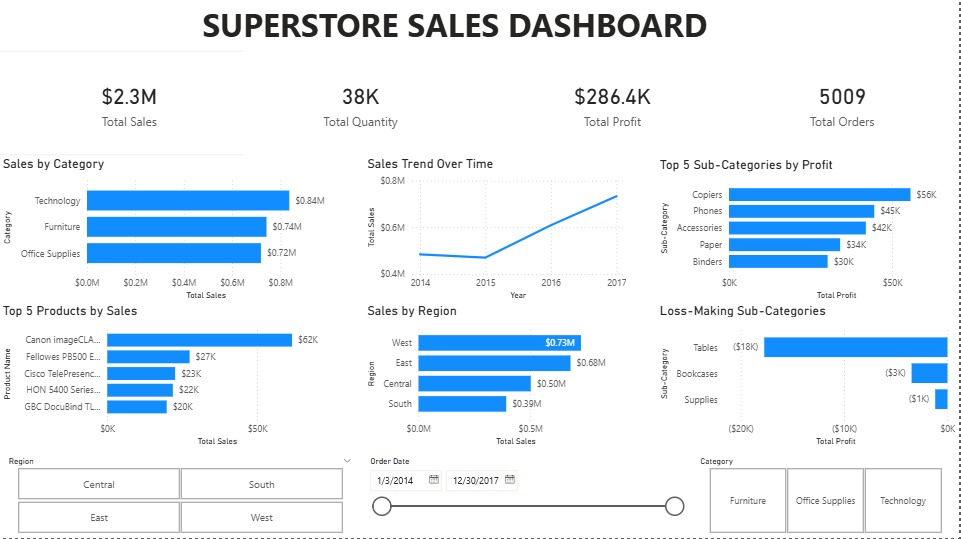

This screenshot's page, from the dashboard's own definition file:
{"tool":"powerbi","page":{"name":"Page 1","canvas":[1280,720],"ordinal":0},"visuals":[{"type":"card","fields":{"Values":["Superstore.Total sales"]},"box":[0,70,346.7,140],"z":0},{"type":"card","fields":{"Values":["Superstore.Total quantity"]},"box":[326.7,70,311.7,140],"z":1000},{"type":"card","fields":{"Values":["Superstore.Total profit"]},"box":[665,70,303.3,140],"z":2000},{"type":"card","fields":{"Values":["Superstore.Total orders"]},"box":[968.3,70,311.7,140],"z":3000},{"type":"clusteredBarChart","title":"Sales by Category","fields":{"Category":["Superstore.Category"],"Y":["Superstore.Total sales"]},"box":[0,210,456.7,196.7],"z":4000},{"type":"clusteredBarChart","title":"Top 5 Sub-Categories by Profit","fields":{"Category":["Superstore.Sub-Category"],"Y":["Superstore.Total profit"]},"box":[876.7,211.7,403.3,195],"z":5000},{"type":"lineChart","title":"Sales Trend Over Time","fields":{"Y":["Superstore.Total sales"],"Category":["Superstore.Order Date.Variation.Date Hierarchy.Year"]},"box":[486.7,210,355,196.7],"z":6000},{"type":"clusteredBarChart","title":"Sales by Region","fields":{"Y":["Superstore.Total sales"],"Category":["Superstore.Region"]},"box":[486.7,406.7,355,195],"z":7000},{"type":"clusteredBarChart","title":"Top 5 Products by Sales","fields":{"Category":["Superstore.Product Name"],"Y":["Superstore.Total sales"]},"box":[0,406.7,456.7,195],"z":8000},{"type":"slicer","fields":{"Values":["Superstore.Region"]},"box":[0,606.7,481.7,113.3],"z":9000},{"type":"slicer","fields":{"Values":["Superstore.Category"]},"box":[921.7,606.7,358.3,113.3],"z":10000},{"type":"slicer","fields":{"Values":["Superstore.Order Date"]},"box":[481.7,606.7,440,113.3],"z":11000},{"type":"textbox","box":[0,0,1280,70],"z":12000},{"type":"clusteredBarChart","title":"Loss-Making Sub-Categories","fields":{"Category":["Superstore.Sub-Category"],"Y":["Superstore.Total profit"]},"box":[876.7,406.7,403.3,195],"z":13000}]}

Visuals, with their boxes in screenshot pixels (x1, y1, x2, y2), scaled from the page's 1280x720 canvas onto the 961x539 screenshot:
card - Superstore.Total sales: bbox=(0, 52, 260, 157)
card - Superstore.Total quantity: bbox=(245, 52, 479, 157)
card - Superstore.Total profit: bbox=(499, 52, 727, 157)
card - Superstore.Total orders: bbox=(727, 52, 960, 157)
"Sales by Category" clusteredBarChart: bbox=(0, 157, 343, 304)
"Top 5 Sub-Categories by Profit" clusteredBarChart: bbox=(658, 158, 960, 304)
"Sales Trend Over Time" lineChart: bbox=(365, 157, 632, 304)
"Sales by Region" clusteredBarChart: bbox=(365, 304, 632, 450)
"Top 5 Products by Sales" clusteredBarChart: bbox=(0, 304, 343, 450)
slicer - Superstore.Region: bbox=(0, 454, 362, 538)
slicer - Superstore.Category: bbox=(692, 454, 960, 538)
slicer - Superstore.Order Date: bbox=(362, 454, 692, 538)
textbox: bbox=(0, 0, 960, 52)
"Loss-Making Sub-Categories" clusteredBarChart: bbox=(658, 304, 960, 450)
